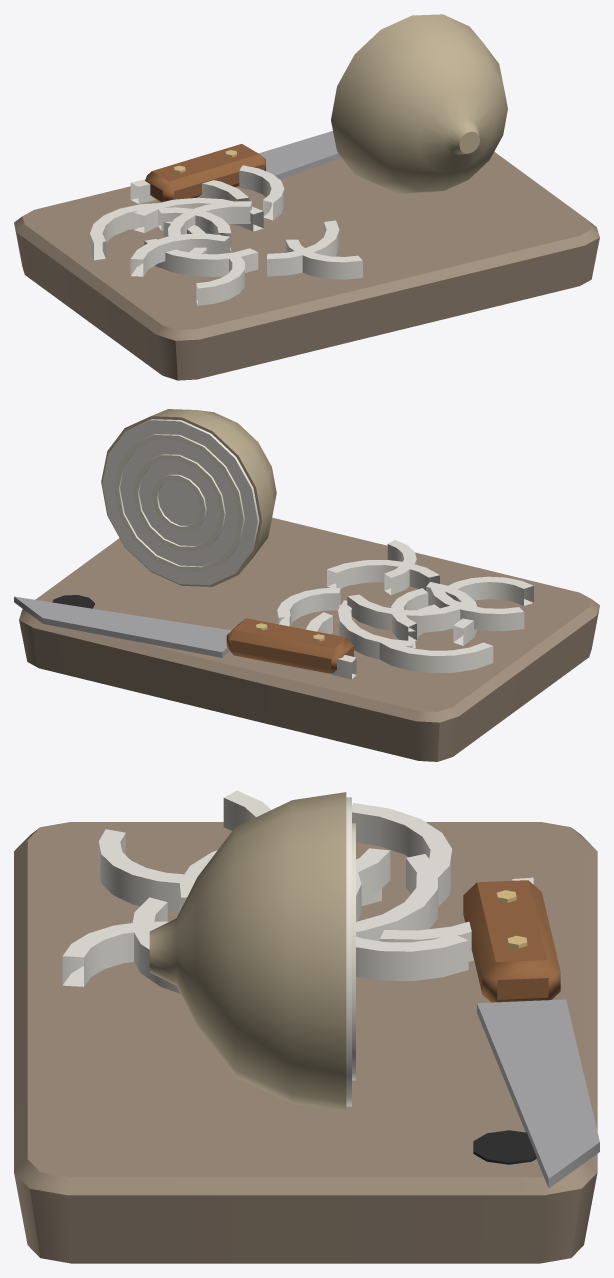
Rendered from cook_chopped_onion.glb.
The picture shows the model from 3 angles, top to bottom: view 1: azimuth 30°, elevation 25°; view 2: azimuth 150°, elevation 25°; view 3: azimuth 270°, elevation 25°; orthographic projection. The views are drawn at different scales.
Visible parts, largest first — view 1: body; view 2: body; view 3: body.
Boxes of the visible parts, box(x1,y1,x2,y2) form: body: box(14, 14, 599, 380); body: box(14, 409, 599, 761); body: box(14, 790, 599, 1263).
Bounding box in the file's own units: 0.065 × 0.0306 × 0.0432.
